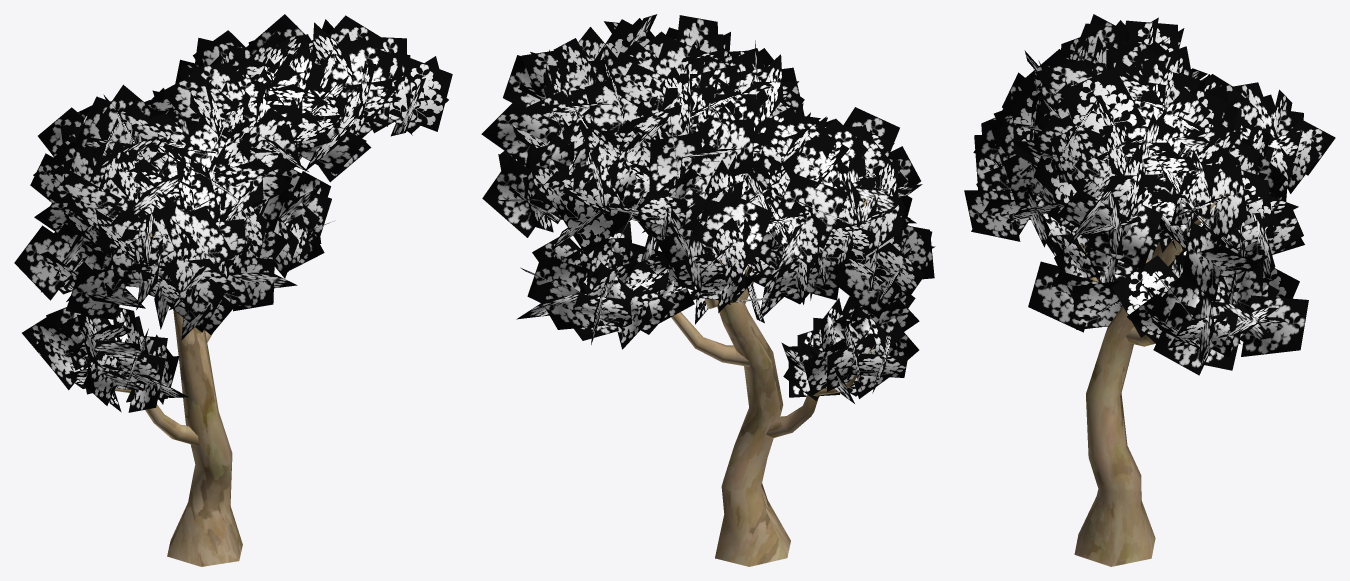
The model's file is P_KnotwoodTree02.obj.
3 renders of one model, left to right at view 1: azimuth 30°, elevation 25°; view 2: azimuth 150°, elevation 25°; view 3: azimuth 270°, elevation 25°, orthographic. The views are drawn at different scales.
Bounding box in the file's own units: 16.64 × 18.76 × 11.76.
